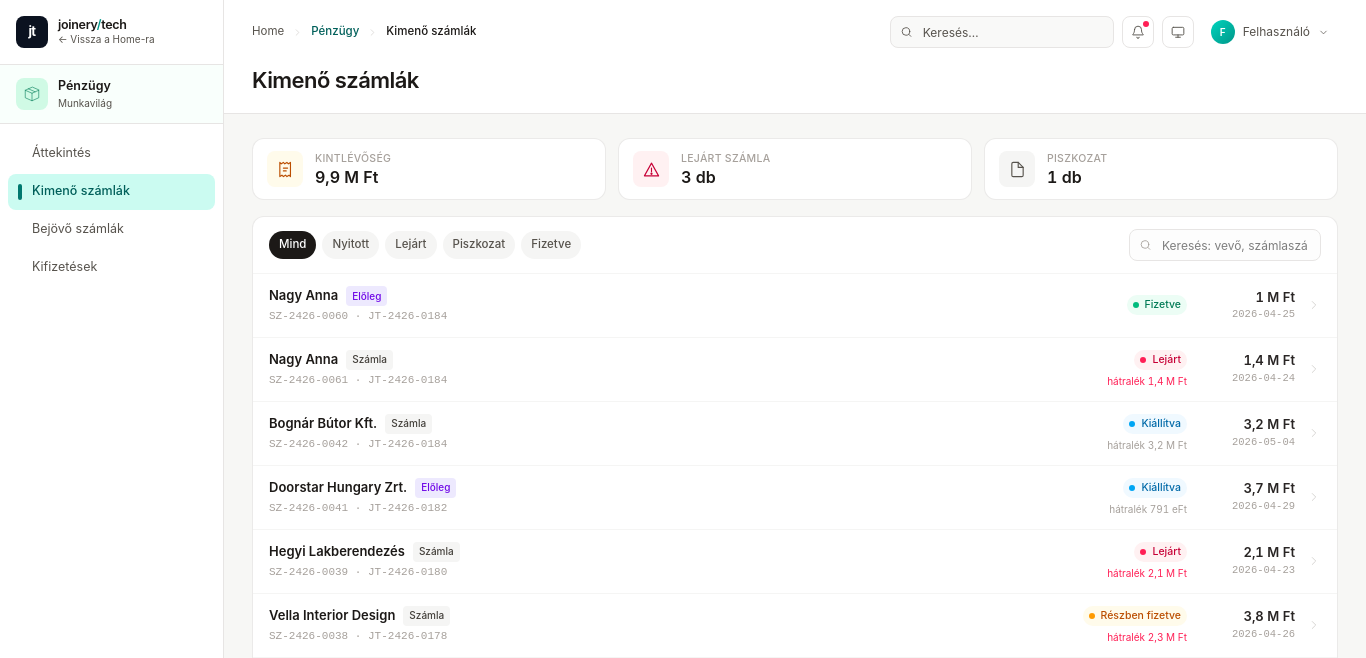
Scenario: FinancePage › clicking invoice opens detail SlideOver
Click the text "Bognár Bútor Kft.": (323, 424) [269,414,377,434]
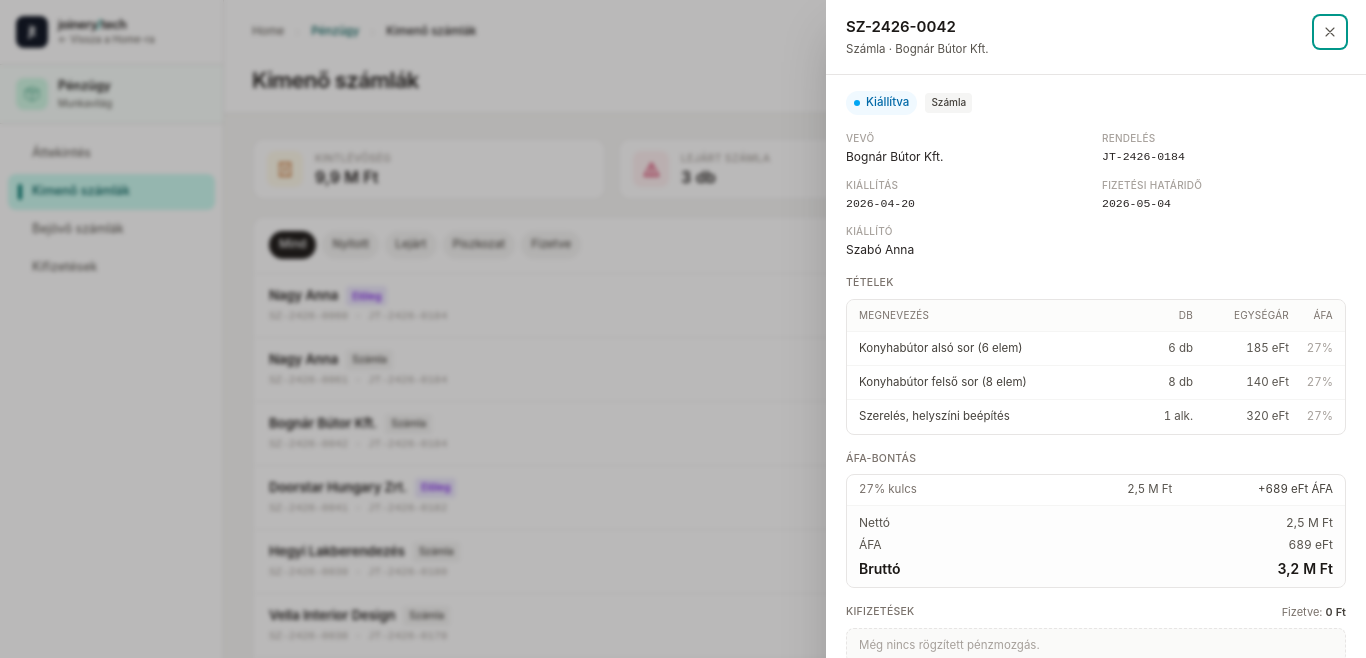
Now the text "SZ-2426-0042" is shown, box [846,17,956,36]
